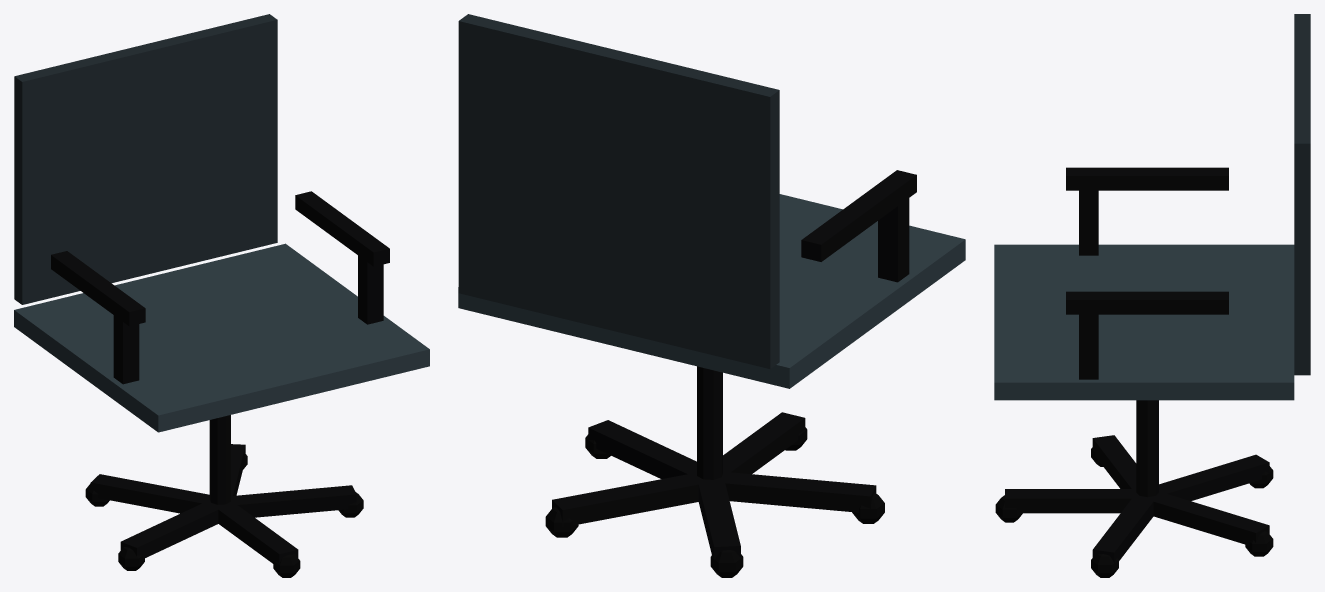
The model's file is chair-task.glb.
3 renders of one model, left to right at view 1: azimuth 30°, elevation 25°; view 2: azimuth 150°, elevation 25°; view 3: azimuth 270°, elevation 25°, orthographic. The views are drawn at different scales.
Parts seen in each view (by area): view 1: chair-task; view 2: chair-task; view 3: chair-task.
Part boxes in pixels (x1,y1,x2,y2): chair-task: (14, 14, 429, 577); chair-task: (458, 14, 965, 577); chair-task: (994, 14, 1310, 577).
Bounding box in the file's own units: 0.6096 × 0.9144 × 0.5913.
